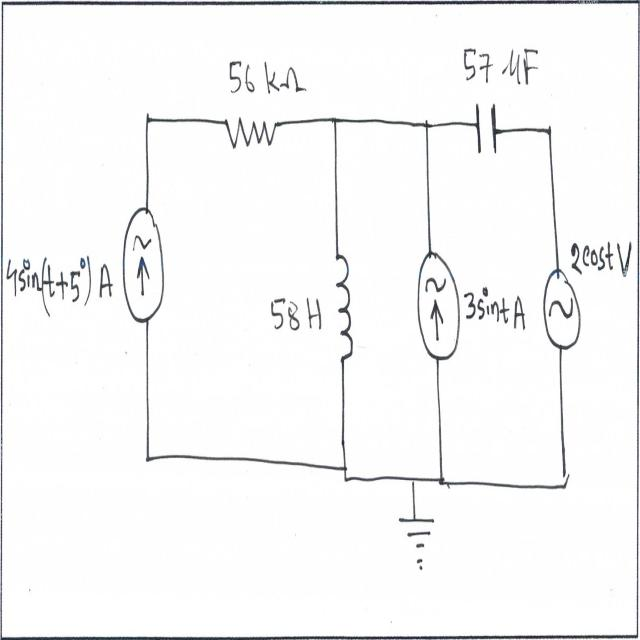ac_current: (538, 249, 582, 365)
capacitor: (474, 94, 501, 164)
current_source: (411, 238, 465, 370), (116, 202, 170, 330)
ground: (397, 511, 437, 582)
inductor: (331, 246, 359, 386)
resistor: (218, 112, 282, 154)
